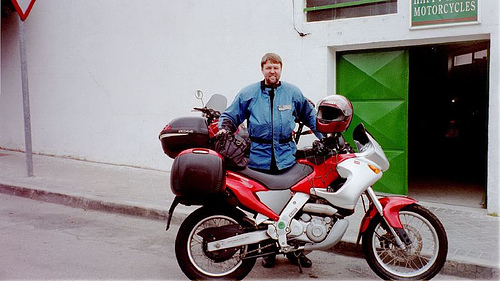without_mask: (261, 57, 283, 84)
